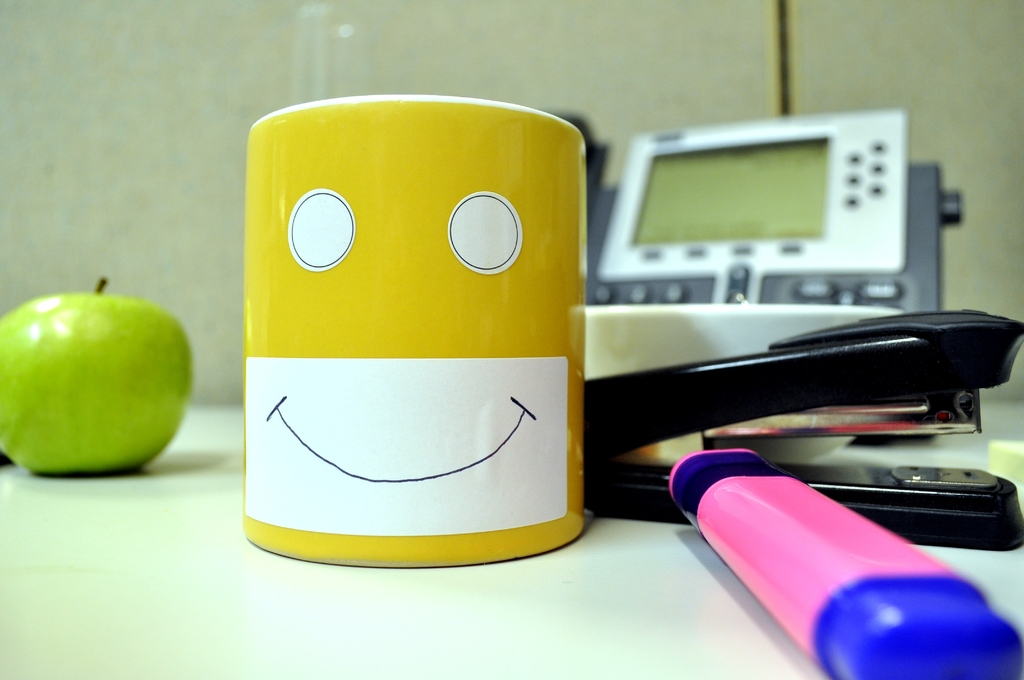Apple: (0, 284, 188, 481)
